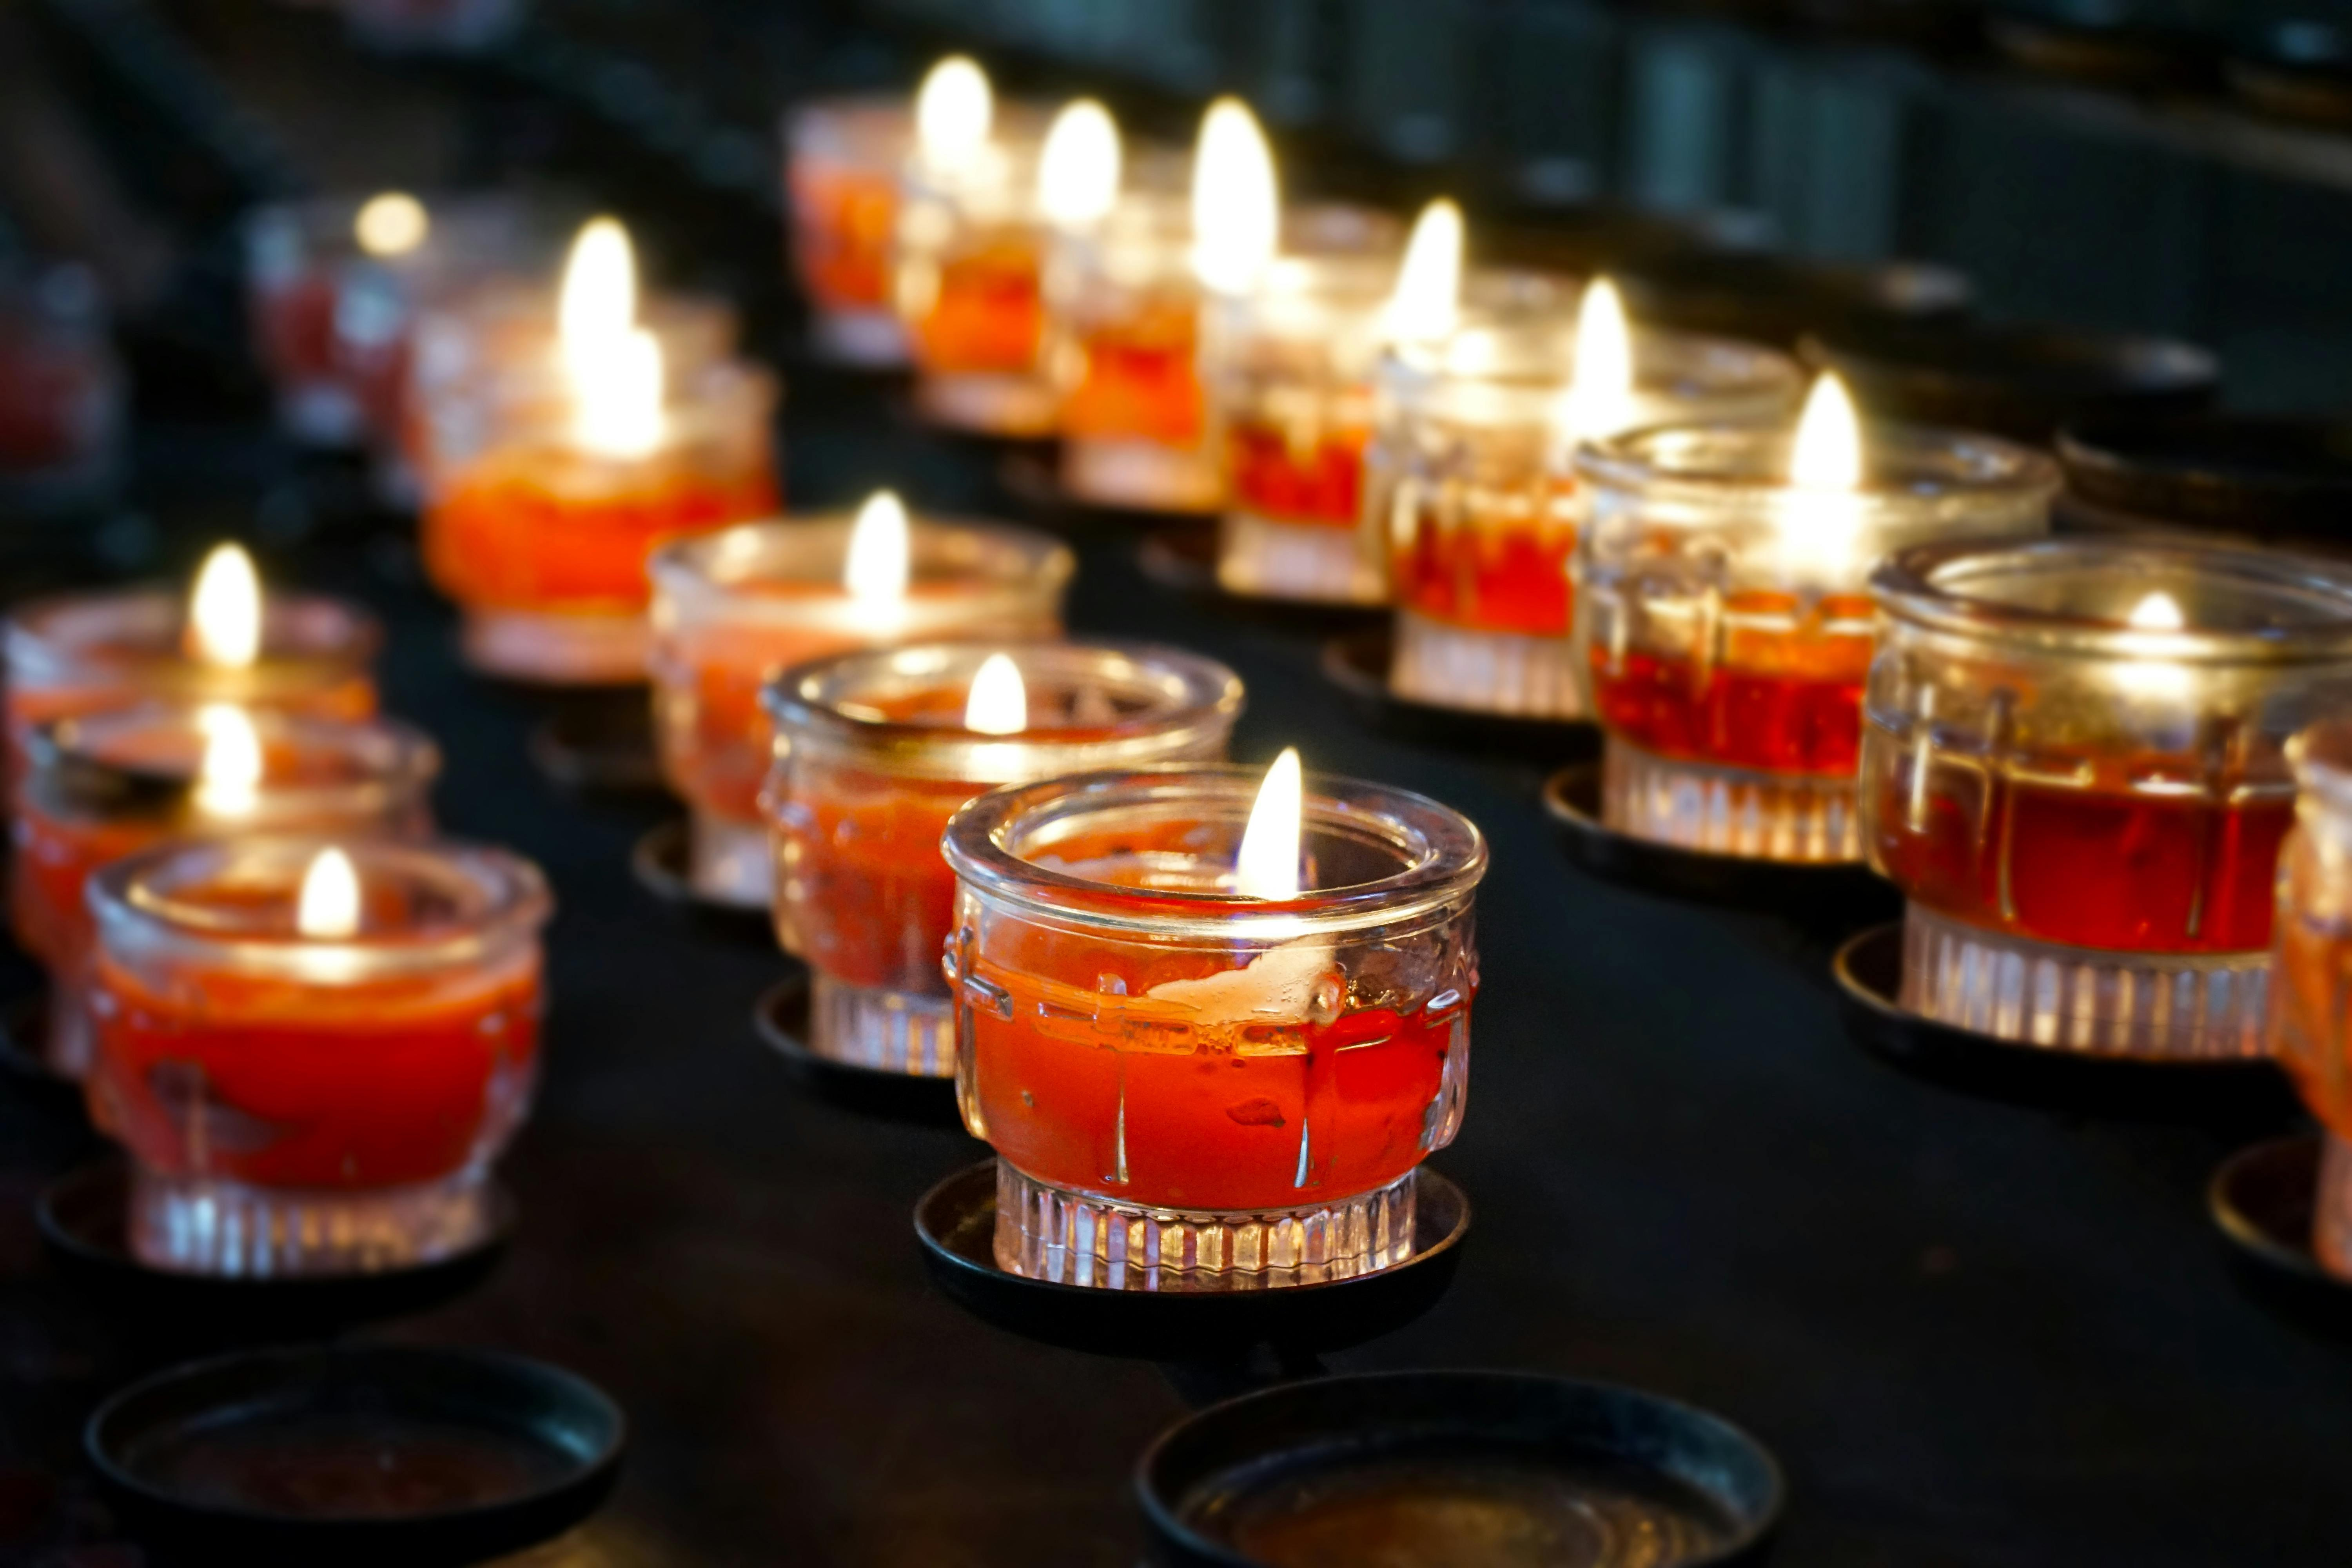Fire: (527, 193, 686, 485), (1174, 87, 1319, 303), (161, 527, 313, 668), (1369, 189, 1486, 366), (1213, 739, 1337, 898), (1533, 256, 1645, 422), (1769, 362, 1878, 500), (1032, 96, 1137, 224), (824, 483, 936, 600), (898, 53, 1003, 177), (275, 847, 406, 945), (185, 695, 290, 810), (334, 173, 438, 264), (945, 656, 1050, 735), (2118, 581, 2203, 632)
